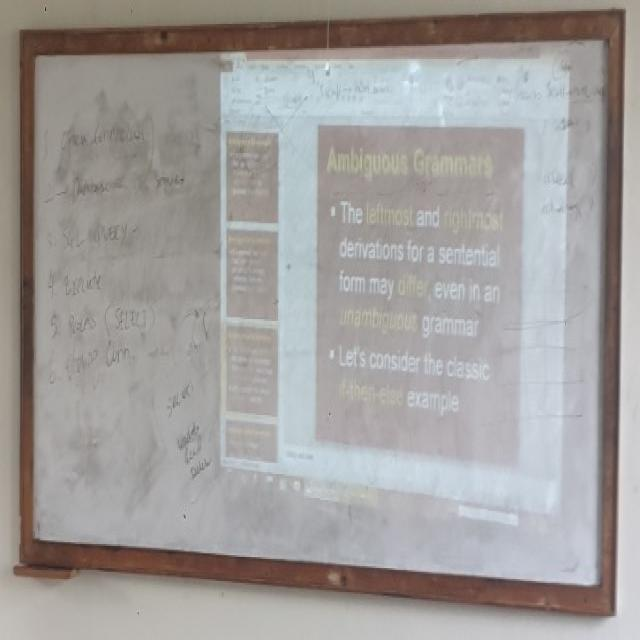Slide: (216, 38, 571, 543)
White-board: (26, 22, 615, 601)
